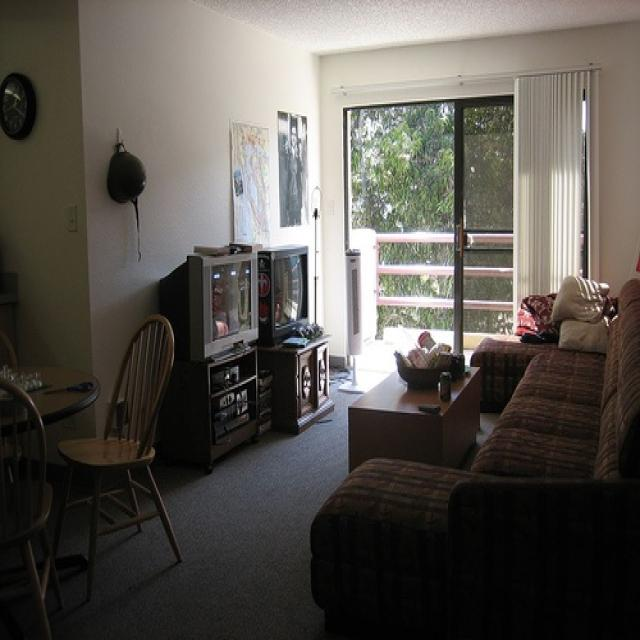chair: (54, 318, 179, 602), (0, 386, 58, 638)
sofa: (306, 280, 639, 638)
tvmonitor: (155, 254, 261, 355), (259, 244, 311, 345)
